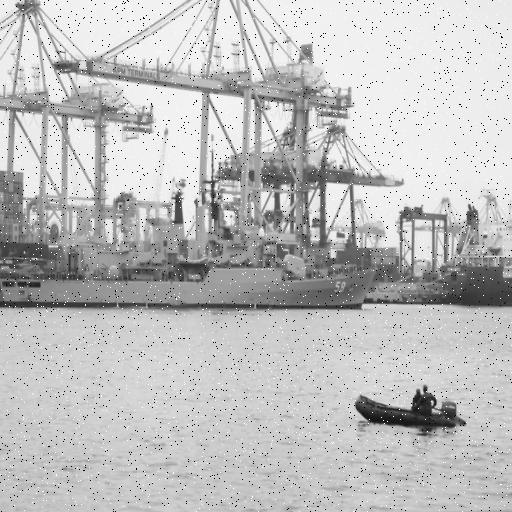Fragata: (1, 125, 381, 312)
